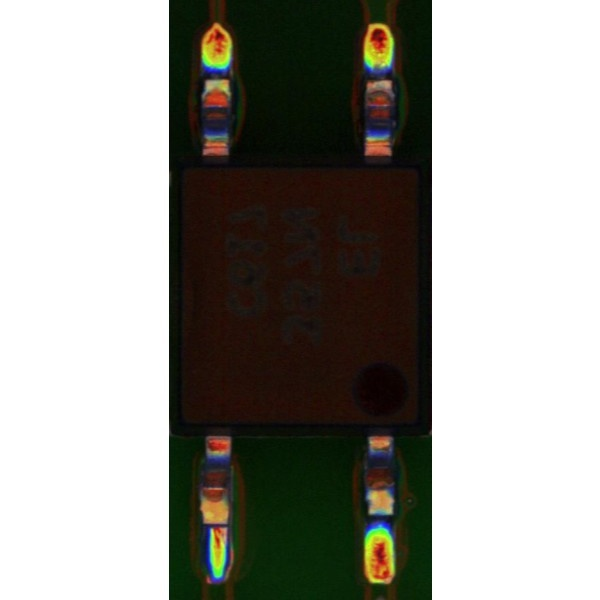Bad_podu: (209, 514, 225, 541)
